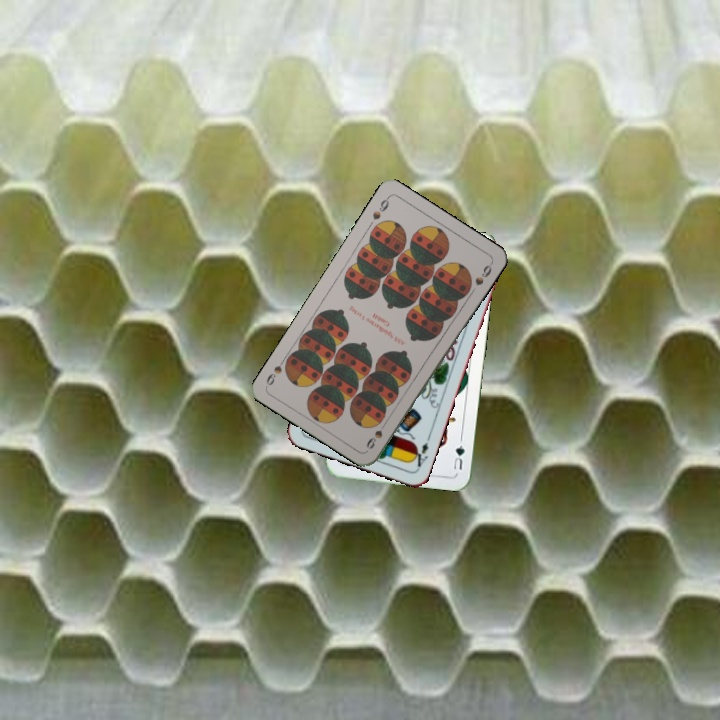EA: (408, 432, 432, 469)
GU: (449, 434, 467, 473)
S9: (362, 416, 390, 452), (368, 193, 392, 223)
